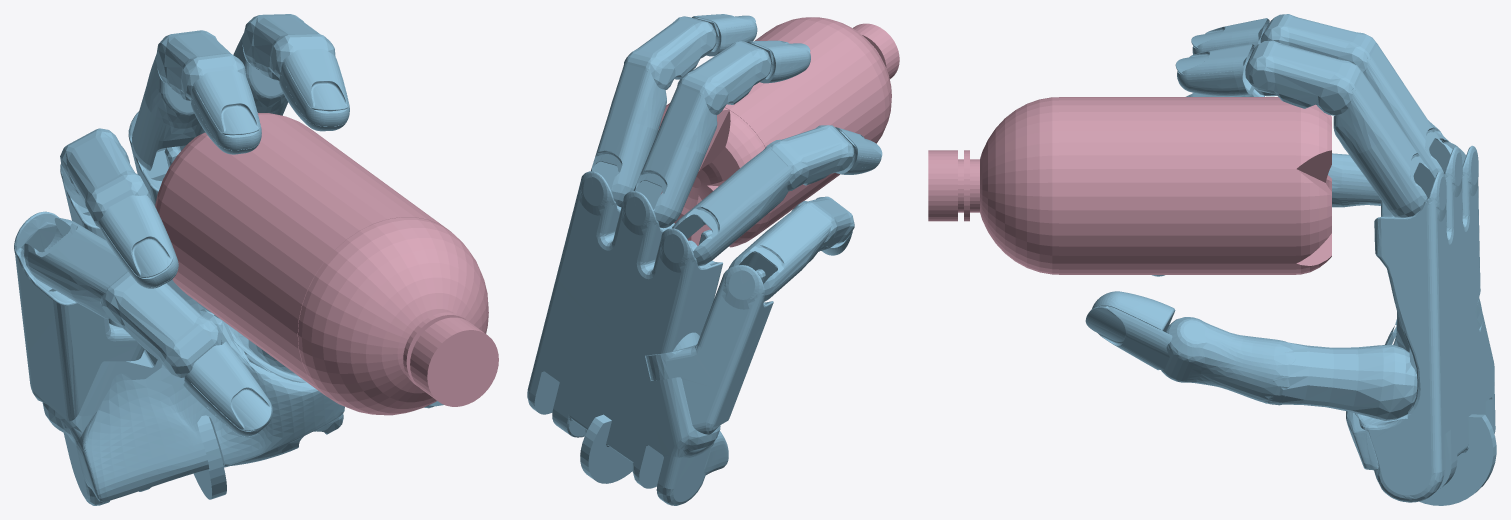
The picture shows the model from 3 angles, left to right: view 1: azimuth 30°, elevation 25°; view 2: azimuth 150°, elevation 25°; view 3: azimuth 270°, elevation 25°; orthographic projection. The views are drawn at different scales.
Parts seen in each view (by area): view 1: world, water_bottle.stl; view 2: world, water_bottle.stl; view 3: world, water_bottle.stl.
Part boxes in pixels (x1,y1,x2,y2): world: (14,14,443,505); water_bottle.stl: (155,113,498,415); world: (527,14,882,505); water_bottle.stl: (658,17,899,247); world: (1085,14,1496,505); water_bottle.stl: (928,97,1331,274).
Bounding box in the file's own units: 0.1112 × 0.1705 × 0.1922.
